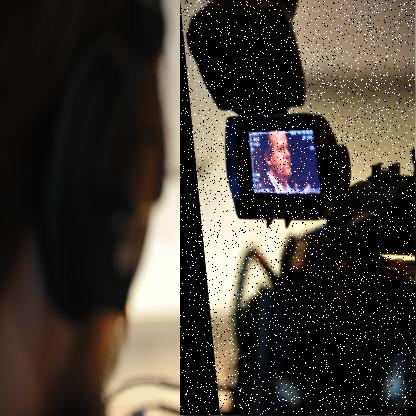Camera: (181, 1, 416, 416)
